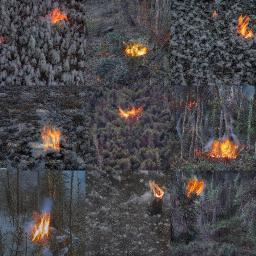Low smoke: (1, 210, 27, 253)
Small fire: (200, 135, 244, 161), (30, 210, 54, 244), (121, 39, 153, 64), (181, 175, 209, 202), (38, 127, 62, 157), (235, 13, 256, 46), (44, 4, 69, 31), (143, 178, 170, 202), (117, 102, 145, 122)
